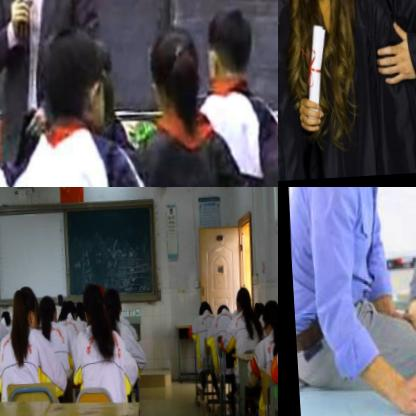head: (36, 26, 111, 138), (138, 24, 200, 117), (200, 5, 254, 93), (7, 284, 37, 333), (77, 286, 103, 324), (99, 287, 121, 325), (258, 296, 278, 337), (33, 291, 55, 328), (232, 288, 249, 318), (56, 298, 74, 324), (195, 300, 210, 324), (249, 302, 263, 325), (213, 303, 228, 321), (271, 301, 278, 326), (0, 305, 7, 324)
